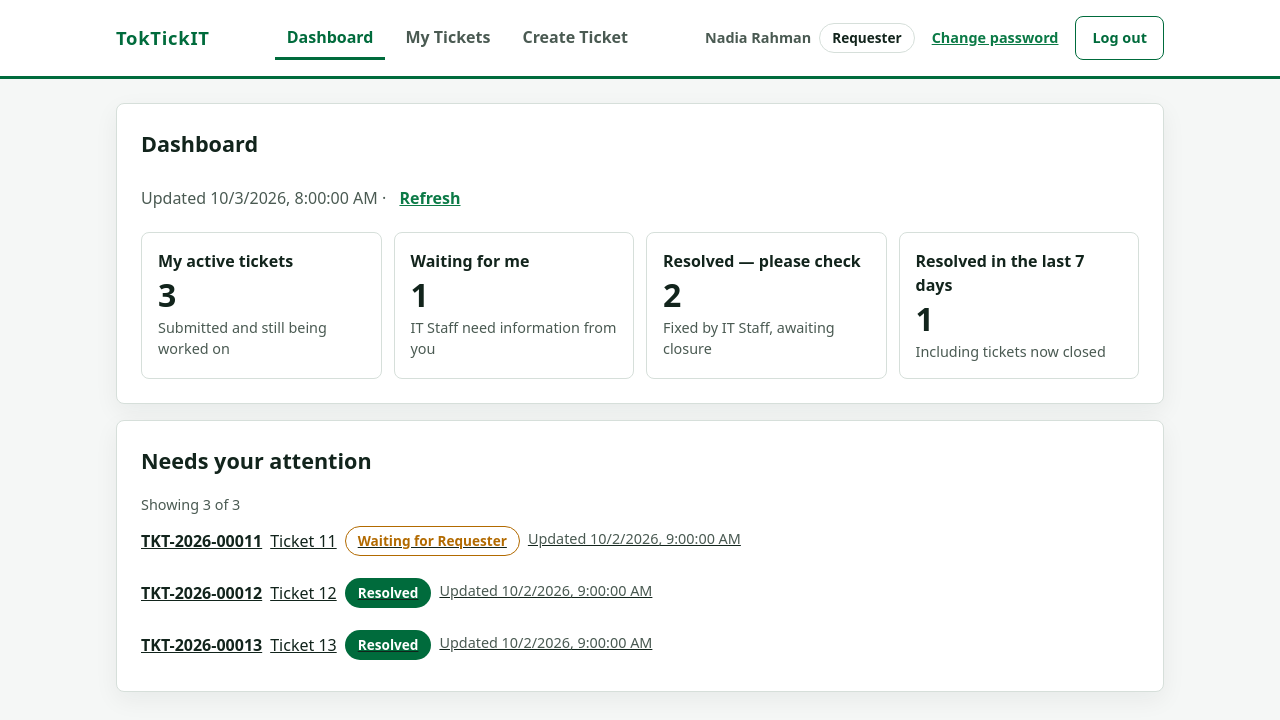
Test: UI-06 the four cards › drill down: Waiting for me opens My Tickets already asking for that status
Expected: the heading "Dashboard" is shown, [141,129,258,158]
Click the link with aria-label "Waiting for me: 1 ticket": (514,306) [394,232,634,379]
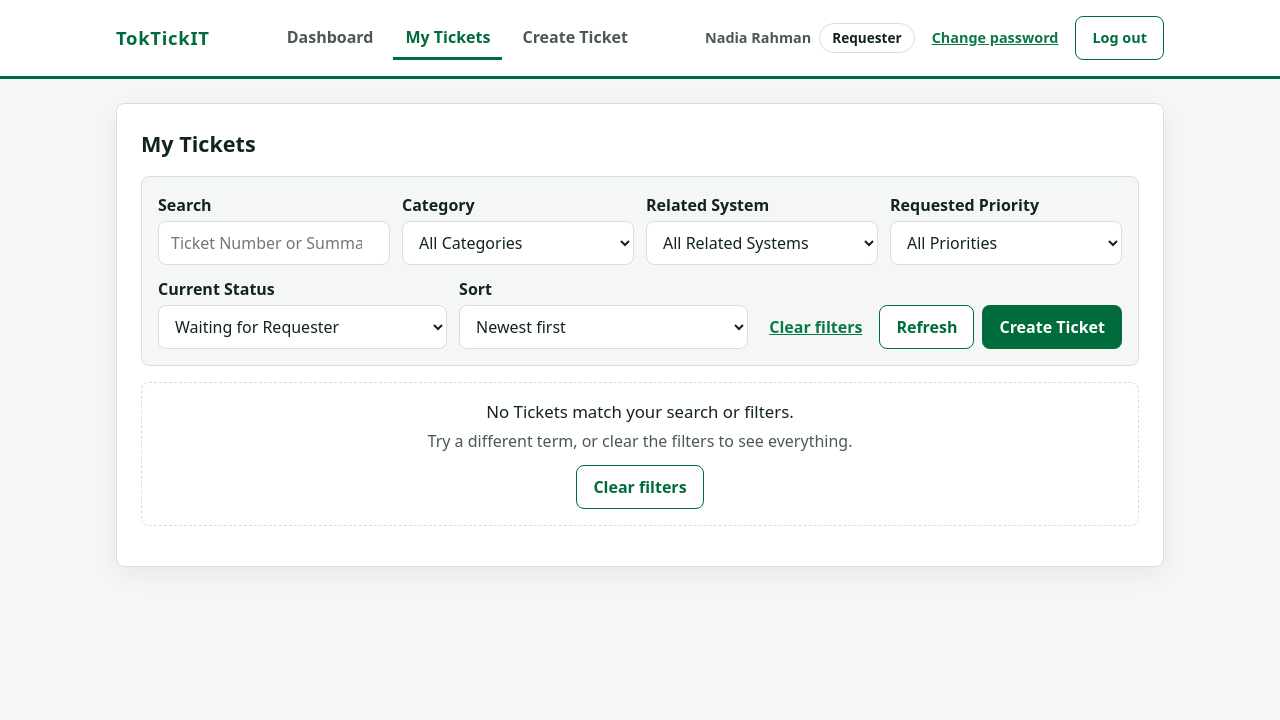
Expected: the heading "My Tickets" is shown, [141,129,256,158]
Expected: the dropdown labelled "Current Status" shows "Waiting for Requester", [158,305,447,349]
